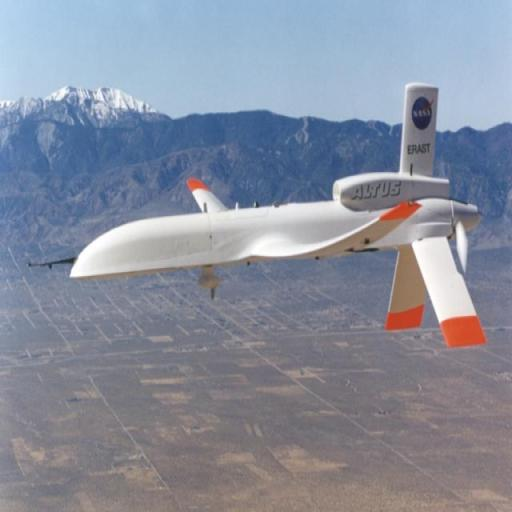uav: (45, 76, 510, 384)
